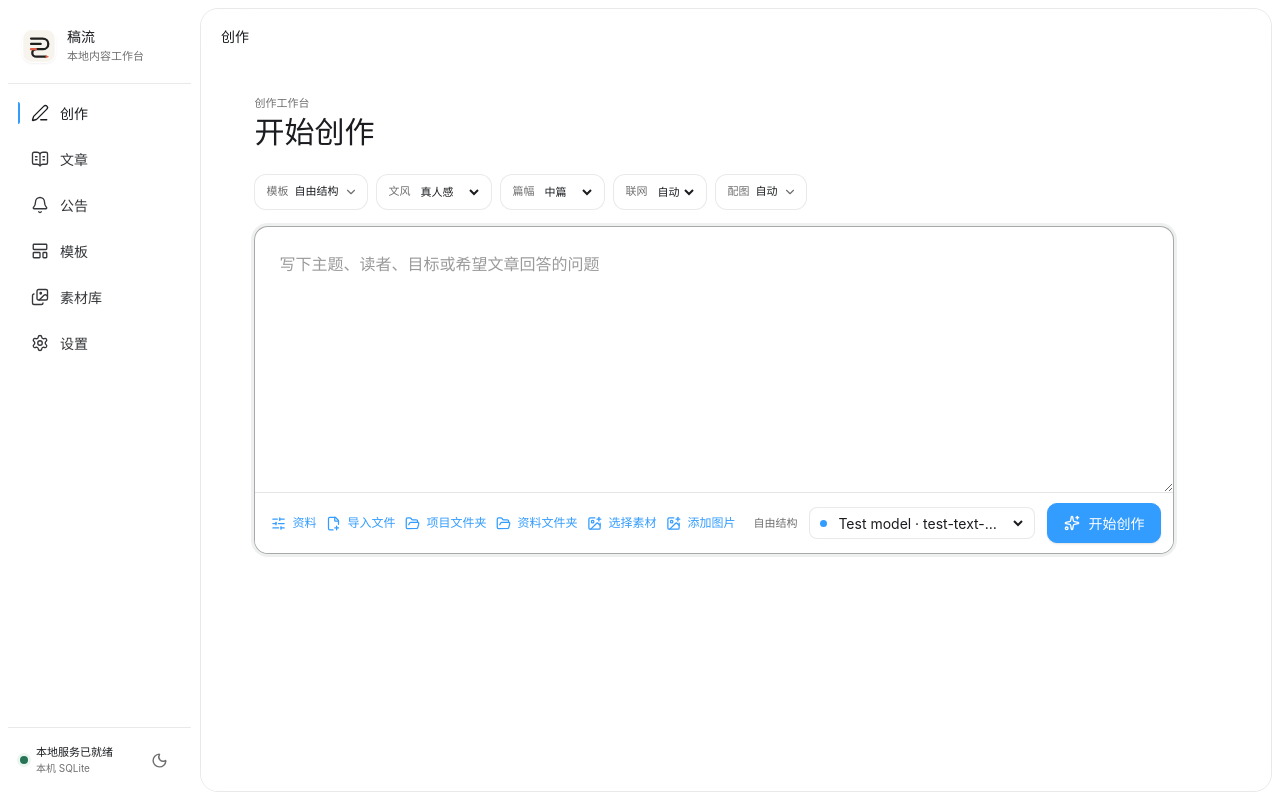
Test case: desktop product flow › creates an article from a brief and opens the generated revision
The width and height of the screenshot is (1280, 800).
In the text box named "文章主题": {"x": 714, "y": 359} [255,226,1173,492], type "如何设计可靠的多平台发布流程"
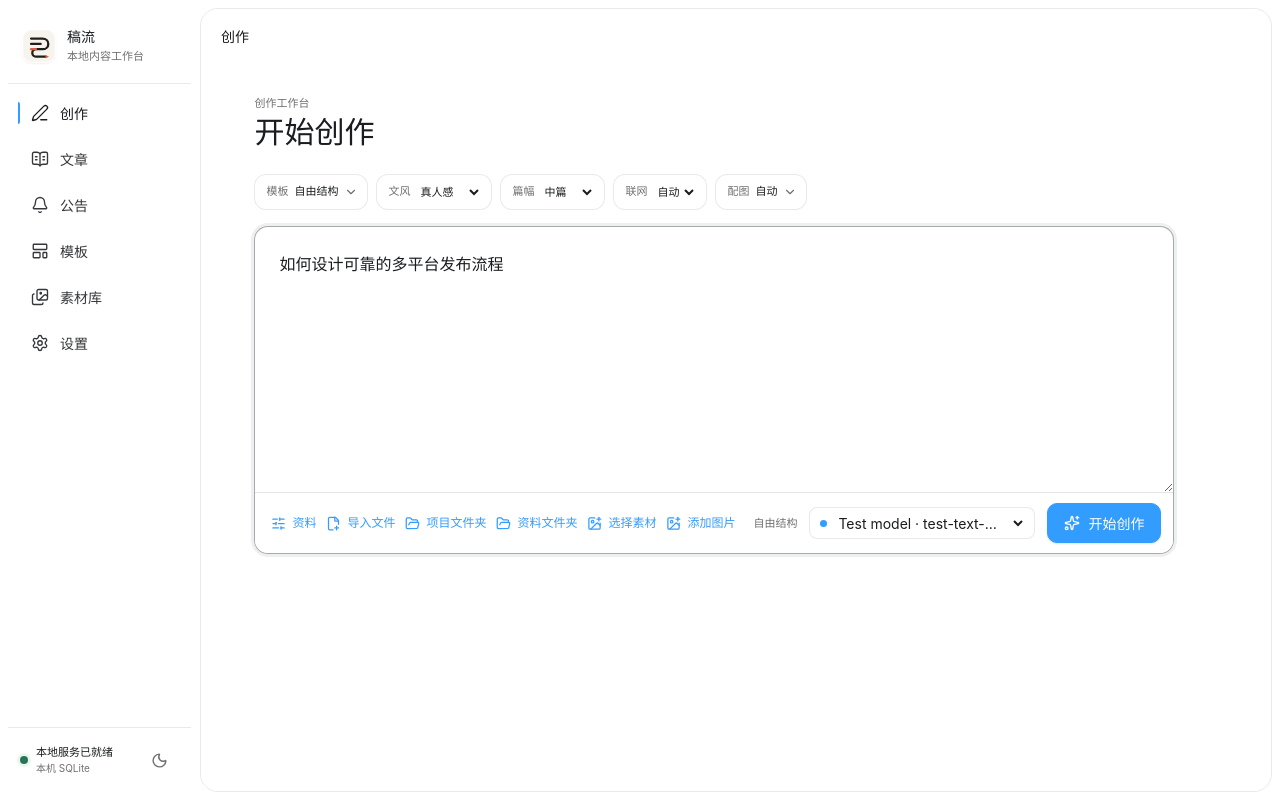
Click the button "资料": {"x": 294, "y": 523} [271,505,316,541]
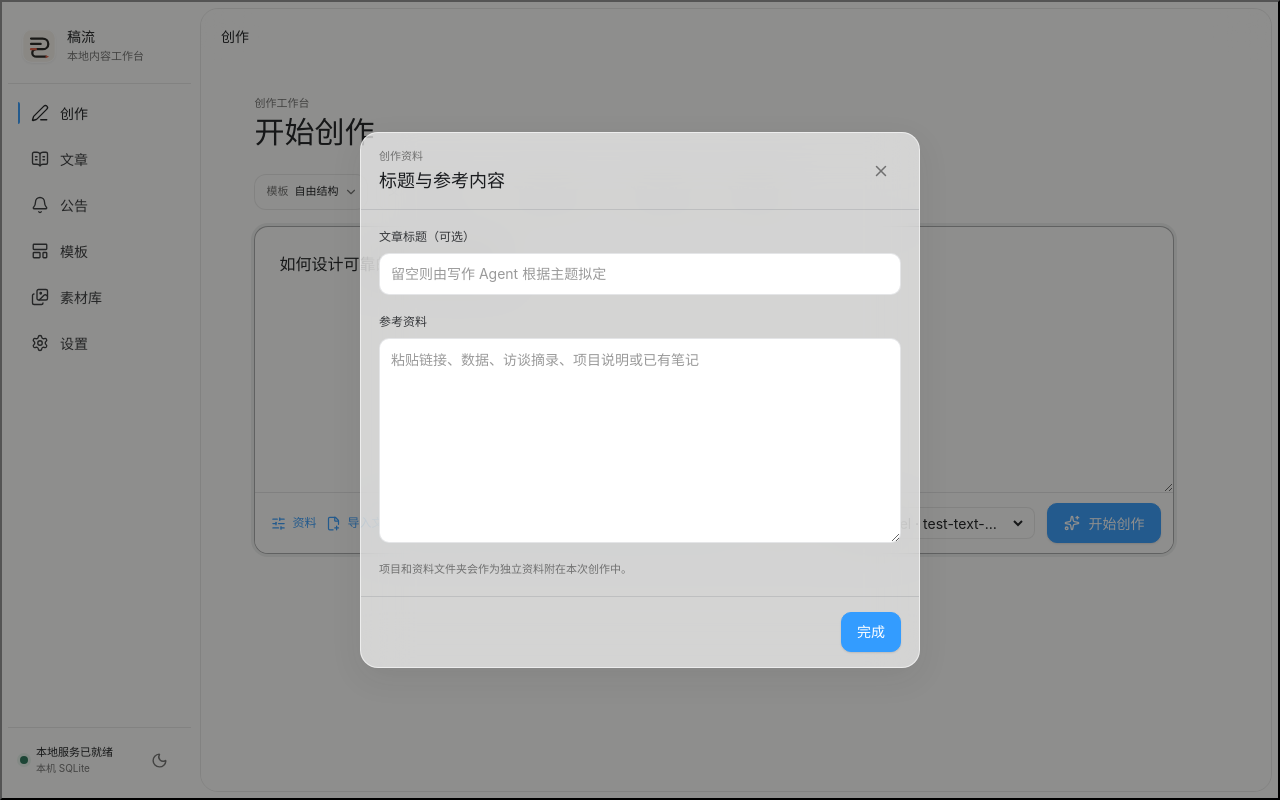
In the text box labelled "参考资料": {"x": 640, "y": 440} [379,338,901,543], type "只使用用户提供的事实，发布前必须人工确认。"
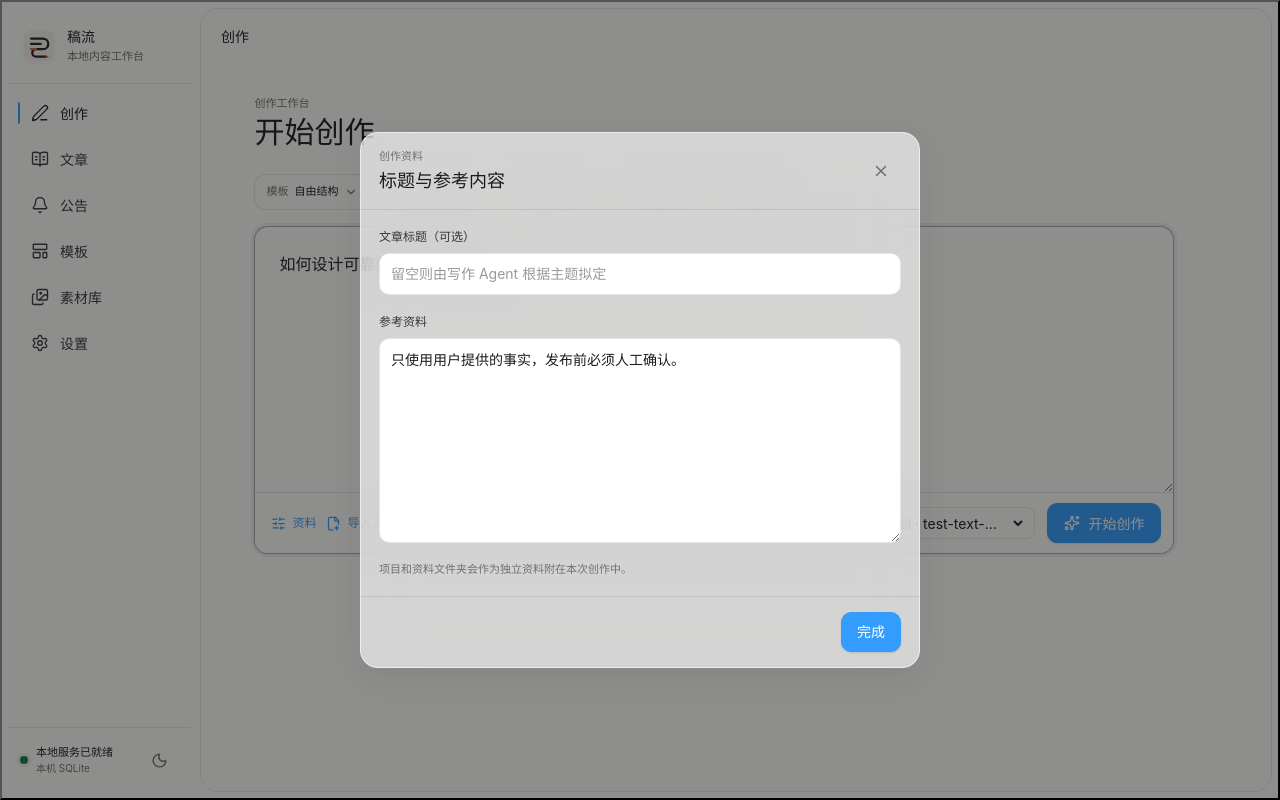
Click the button "完成": {"x": 871, "y": 632} [841,612,901,652]
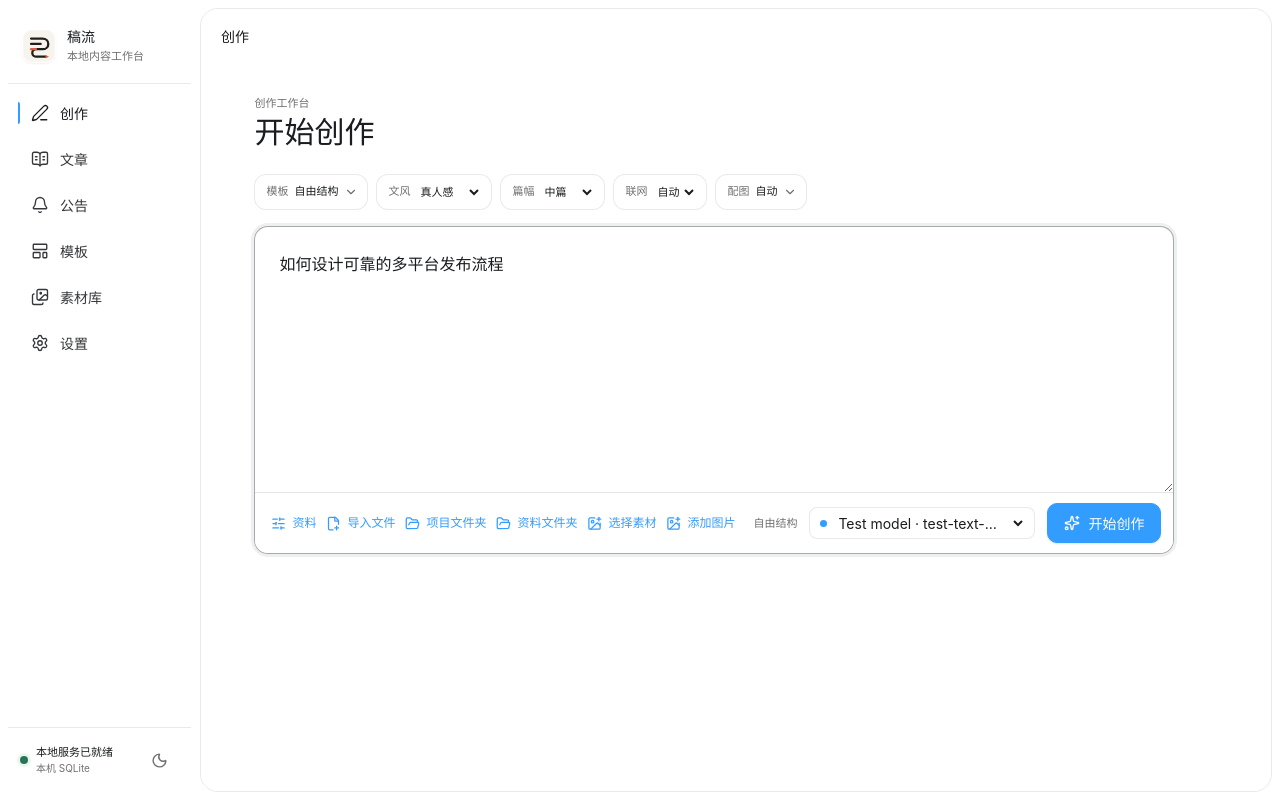
Click the button "开始创作": {"x": 1104, "y": 523} [1047,503,1161,543]
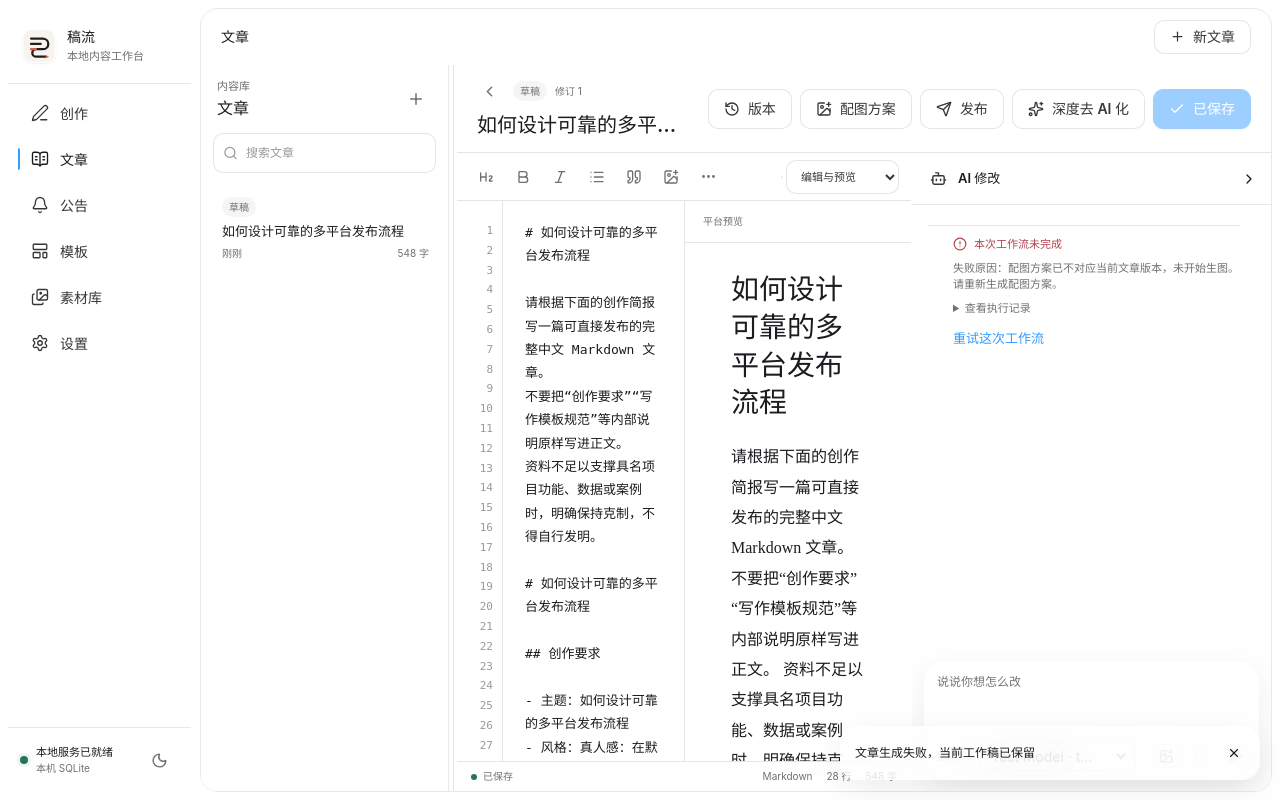
Expected: the text box named "Markdown 正文" is shown, [503,201,684,761]
Expected: the heading "如何设计可靠的多平台发布流程" below "修订" is shown, [477,110,692,140]
